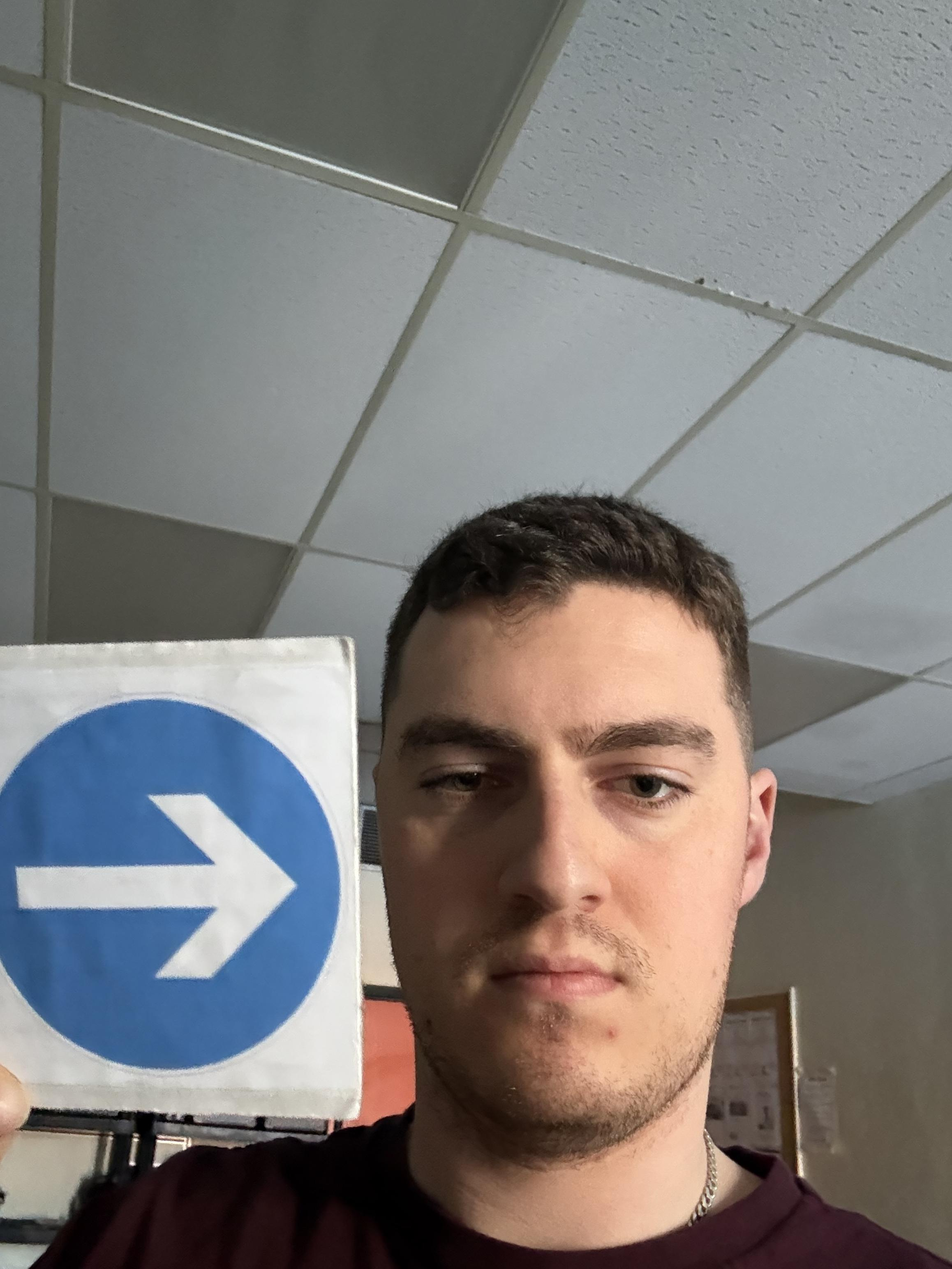Proceed Right: (0, 844, 266, 1268)
